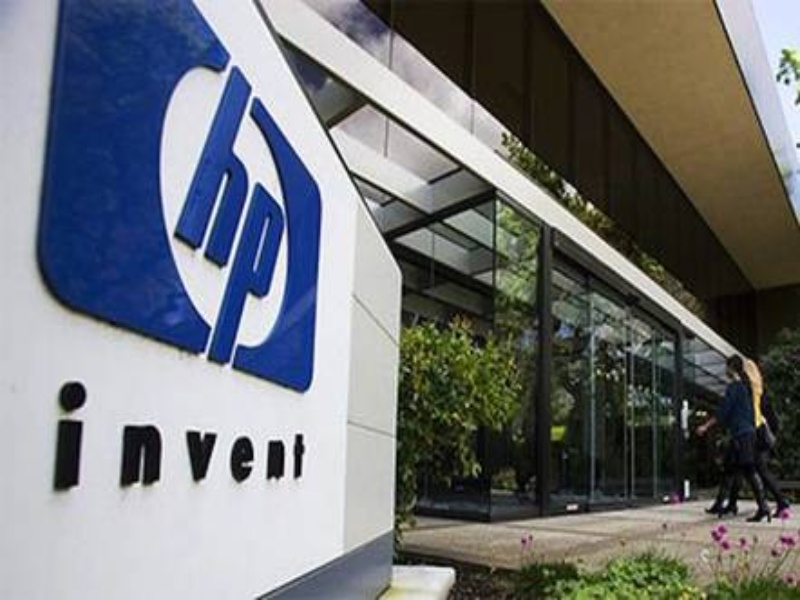hp: (166, 52, 304, 379)
